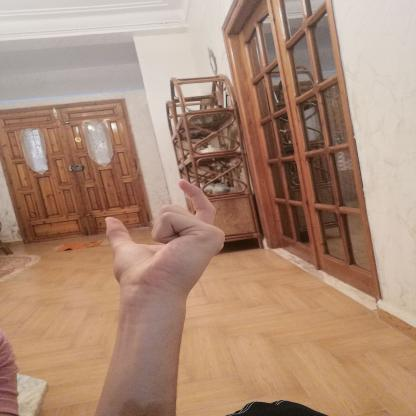NOON: (93, 174, 240, 304)
